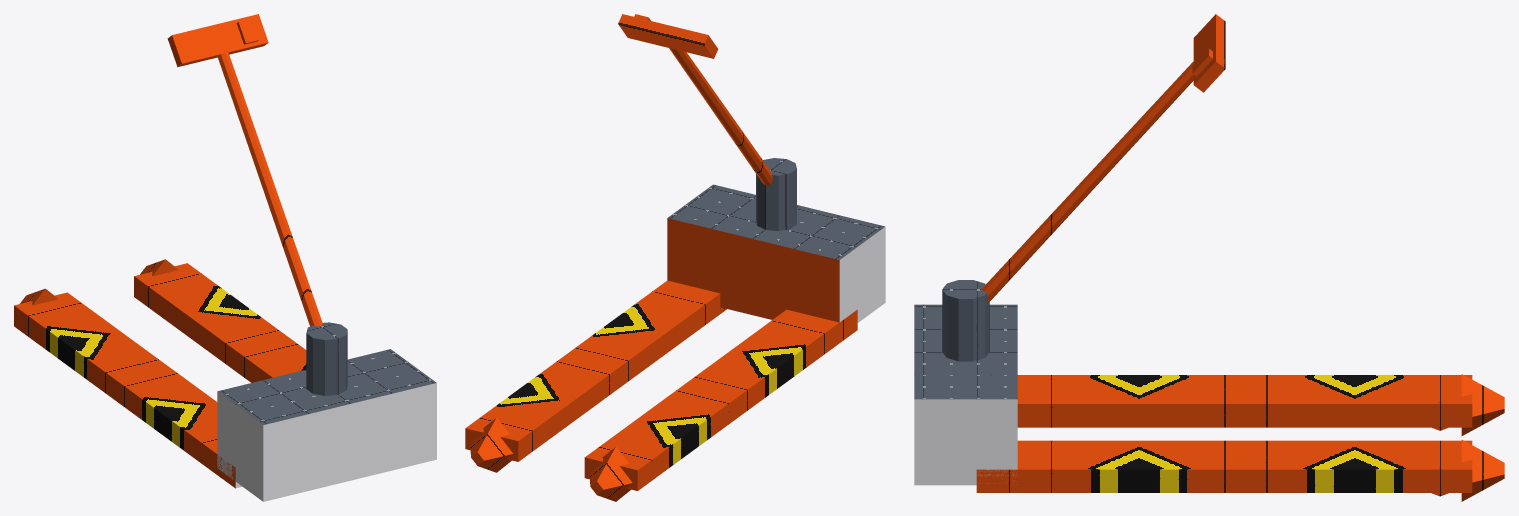
File: pallet_jack.glb
3 renders of one model, left to right at view 1: azimuth 30°, elevation 25°; view 2: azimuth 150°, elevation 25°; view 3: azimuth 270°, elevation 25°, orthographic. The views are drawn at different scales.
Visible parts, largest first — view 1: pallet_jack; view 2: pallet_jack; view 3: pallet_jack.
Boxes of the visible parts, box(x1,y1,x2,y2) form: pallet_jack: box(14, 14, 436, 501); pallet_jack: box(465, 14, 885, 501); pallet_jack: box(914, 14, 1504, 501).
Bounding box in the file's own units: 0.52 × 1.1 × 1.37.
Materials: 3 (2 with a texture image).
